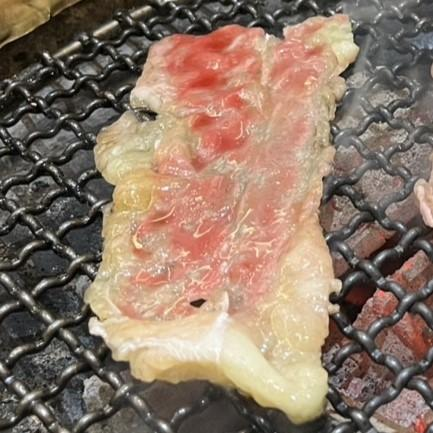Undercooked: (84, 14, 358, 422)
